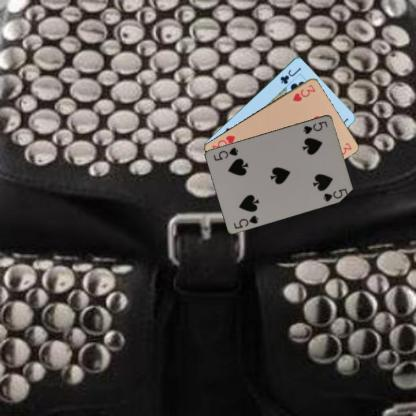3h: (290, 82, 317, 103)
5s: (300, 119, 329, 136), (231, 213, 260, 230)
Jc: (278, 65, 302, 85)
